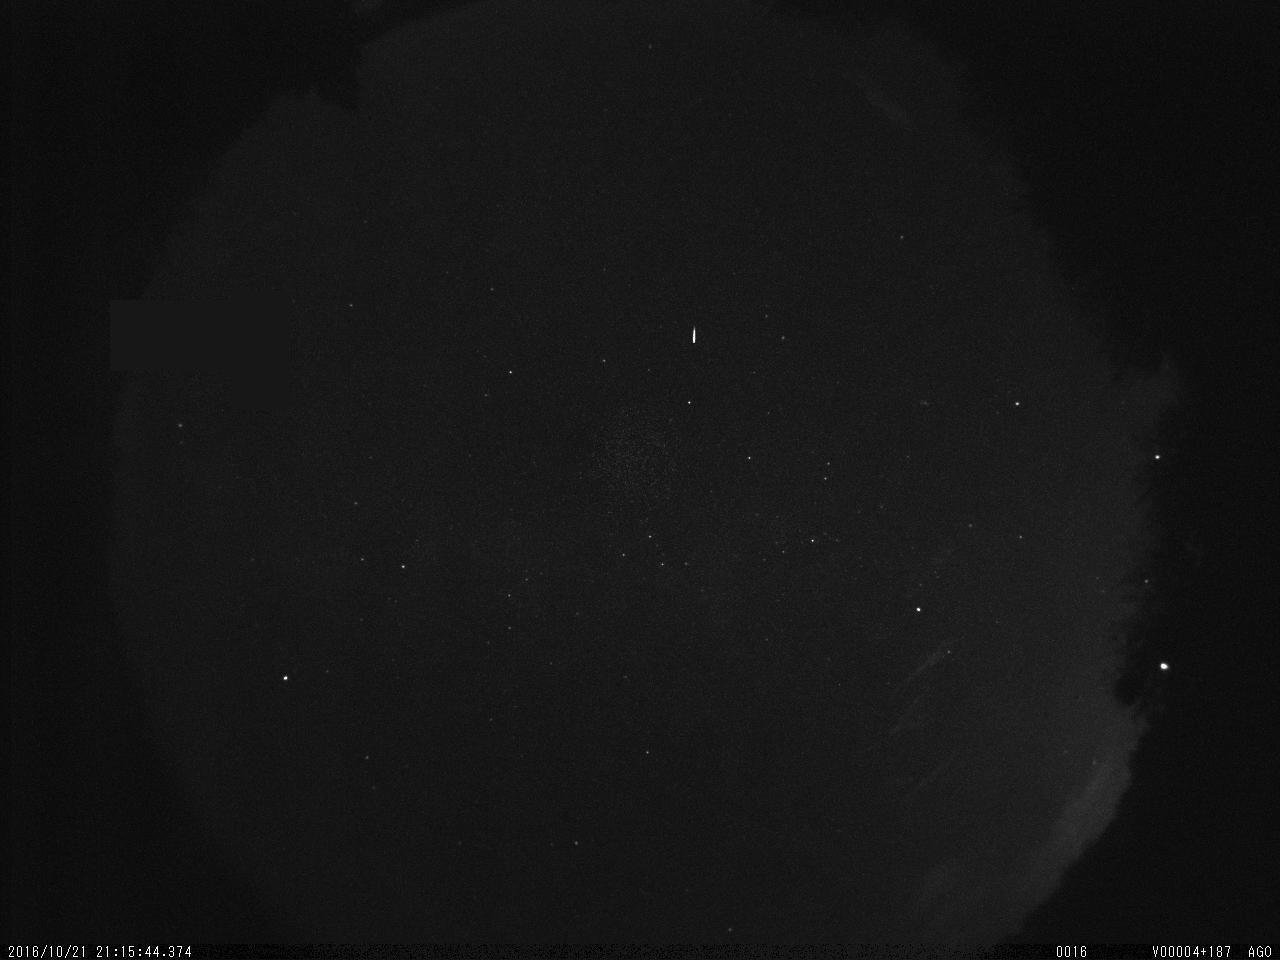meteor: (689, 319, 699, 351)
